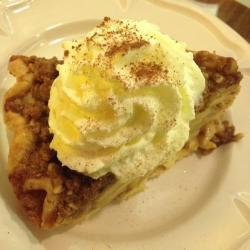apple_pie: (2, 36, 243, 231)
chantilly: (45, 19, 207, 182)
